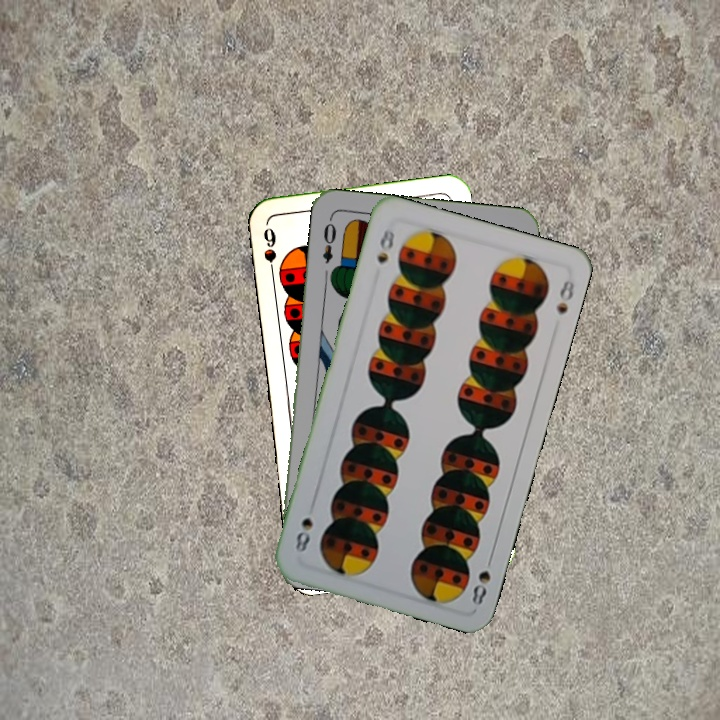EO: (318, 214, 339, 266)
S8: (468, 550, 496, 608), (373, 223, 398, 266)
S9: (259, 224, 279, 281)
